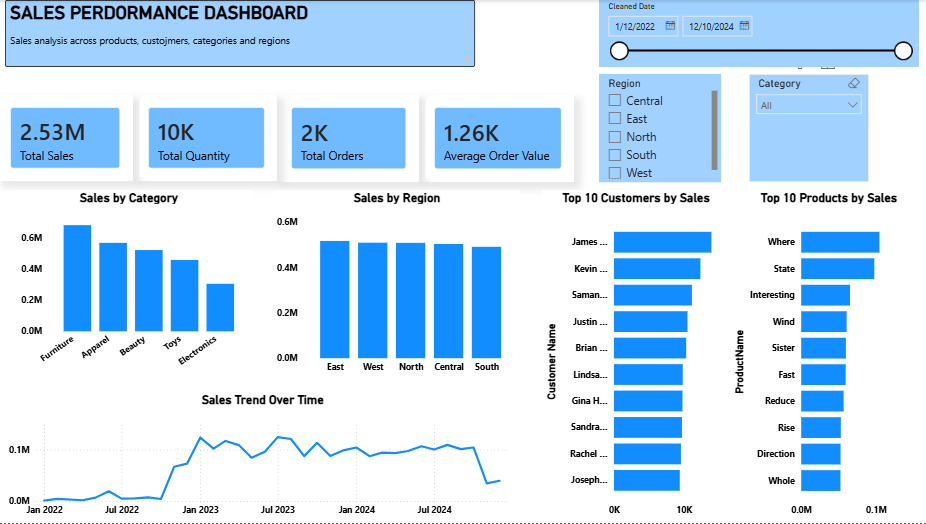

The page's visual inventory and layout, read from the dashboard file:
{"tool":"powerbi","page":{"name":"Page 1","canvas":[1280,720],"ordinal":0},"visuals":[{"type":"cardVisual","fields":{"Data":["tblOrders.Total Sales"]},"box":[0,130.2,185.8,118.4],"z":0},{"type":"cardVisual","fields":{"Data":["tblOrders.Total Orders"]},"box":[387.4,130.2,192.7,119.7],"z":1000},{"type":"cardVisual","fields":{"Data":["tblOrders.Total Quantity"]},"box":[189.6,130.2,194.1,118.4],"z":2000},{"type":"cardVisual","fields":{"Data":["tblOrders.Average Order Value"]},"box":[583.9,130.2,209.2,119.7],"z":3000},{"type":"columnChart","title":"Sales by Category","fields":{"Category":["tblOrders.Category"],"Y":["Sum(tblOrders.Calculated Sales)"]},"box":[10.2,262,341.3,261.5],"z":4000},{"type":"clusteredColumnChart","title":"Sales by Region","fields":{"Category":["tblOrders.Region"],"Y":["Sum(tblOrders.TotalSales)"]},"box":[378.5,261.5,341.3,261.5],"z":5000},{"type":"lineChart","title":"Sales Trend Over Time","fields":{"Y":["Sum(tblOrders.TotalSales)"],"Category":["tblOrders.Cleaned Date.Variation.Date Hierarchy.Year","tblOrders.Cleaned Date.Variation.Date Hierarchy.Month"]},"box":[10.2,540,709.8,180],"z":6000},{"type":"clusteredBarChart","title":"Top 10 Products by Sales","fields":{"Category":["tblProducts.ProductName"],"Y":["Sum(tblOrders.TotalSales)"]},"box":[1007.5,261.5,272.5,458.3],"z":6001},{"type":"clusteredBarChart","title":"Top 10 Customers by Sales","fields":{"Category":["tblOrders.Customer Name"],"Y":["Sum(tblOrders.TotalSales)"]},"box":[748.7,261.5,259,458],"z":6002},{"type":"slicer","fields":{"Values":["tblOrders.Region"]},"box":[826.8,102.4,168.3,149.3],"z":6003},{"type":"slicer","fields":{"Values":["tblOrders.Category"]},"box":[1033.2,102.4,165.4,147.8],"z":6004},{"type":"slicer","fields":{"Values":["tblOrders.Cleaned Date"]},"box":[826.8,0,440.5,92.2],"z":6005},{"type":"textbox","title":"SALES PERDORMANCE DASHBOARD","box":[10.2,0,646.8,92.2],"z":6006}]}

Visuals, with their boxes in screenshot pixels (x1, y1, x2, y2), scaled from the page's 1280x720 canvas onto the 926x524 screenshot:
cardVisual - tblOrders.Total Sales: bbox=(0, 95, 134, 181)
cardVisual - tblOrders.Total Orders: bbox=(280, 95, 420, 182)
cardVisual - tblOrders.Total Quantity: bbox=(137, 95, 278, 181)
cardVisual - tblOrders.Average Order Value: bbox=(422, 95, 574, 182)
"Sales by Category" columnChart: bbox=(7, 191, 254, 381)
"Sales by Region" clusteredColumnChart: bbox=(274, 190, 521, 381)
"Sales Trend Over Time" lineChart: bbox=(7, 393, 521, 523)
"Top 10 Products by Sales" clusteredBarChart: bbox=(729, 190, 925, 523)
"Top 10 Customers by Sales" clusteredBarChart: bbox=(542, 190, 729, 523)
slicer - tblOrders.Region: bbox=(598, 75, 720, 183)
slicer - tblOrders.Category: bbox=(747, 75, 867, 182)
slicer - tblOrders.Cleaned Date: bbox=(598, 0, 917, 67)
"SALES PERDORMANCE DASHBOARD" textbox: bbox=(7, 0, 475, 67)
